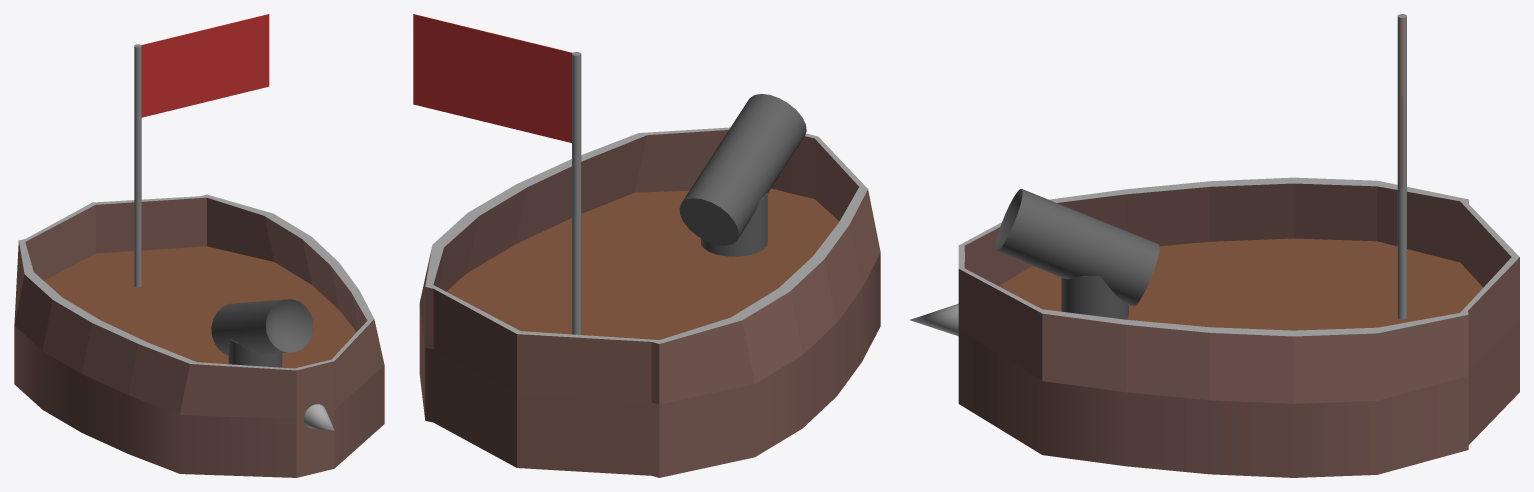
Rendered from Bad Ass Boat.fbx.
3 renders of one model, left to right at view 1: azimuth 30°, elevation 25°; view 2: azimuth 150°, elevation 25°; view 3: azimuth 270°, elevation 25°, orthographic. The views are drawn at different scales.
Parts seen in each view (by area): view 1: pCube5; view 2: pCube5; view 3: pCube5.
Boxes of the visible parts, x1,y1,x2,y2 form: pCube5: (14, 14, 384, 477); pCube5: (413, 14, 880, 477); pCube5: (910, 14, 1519, 477).
Size of the model in its own units: 11.42 by 11.68 by 17.21.
